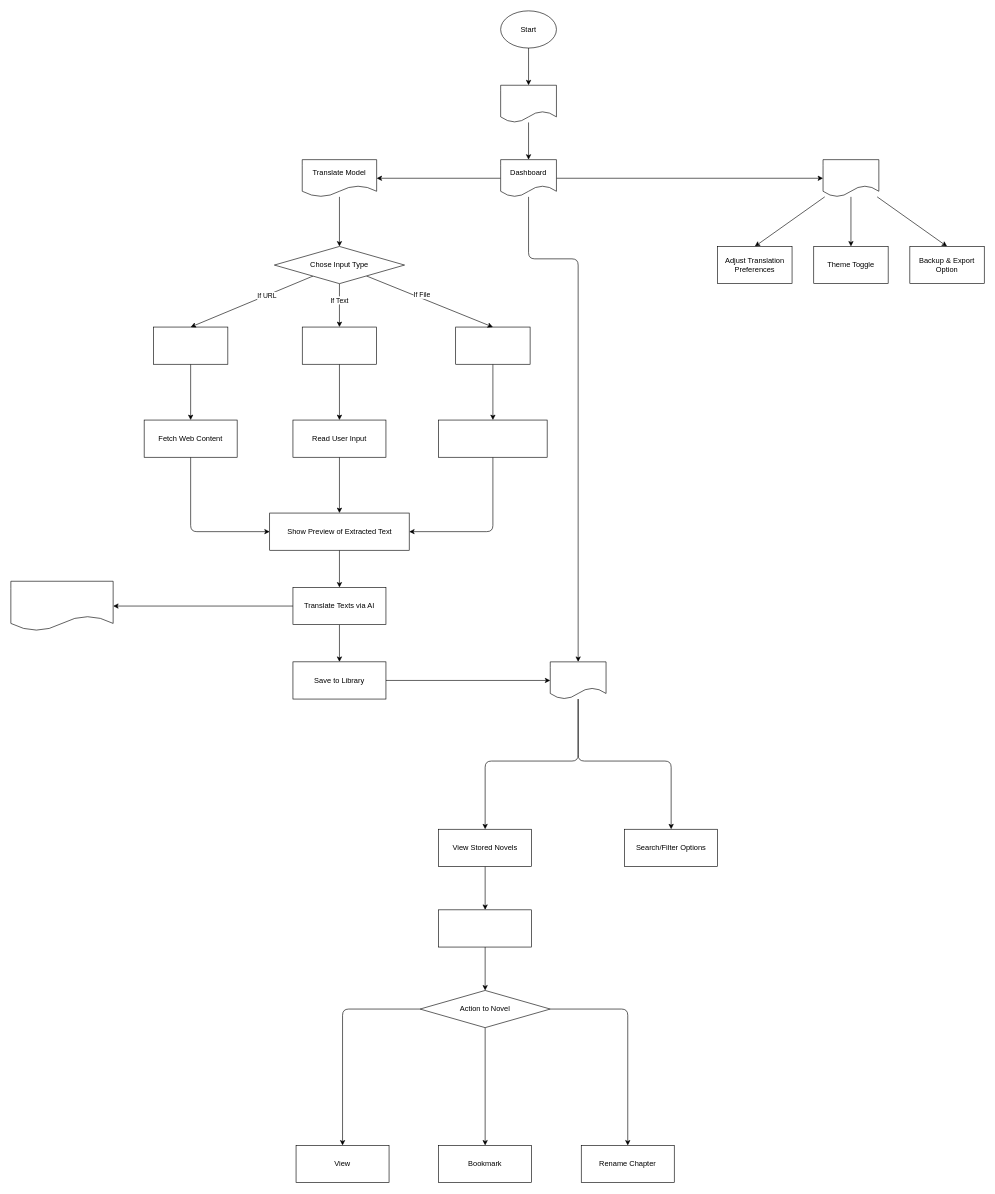
Some shapes in this 995 by 1194 pixel diagram are drawn without their labels. Each missing label, with the box of its shape:
Extract Texts from Chapters: (438, 419, 547, 457)
Library: (550, 661, 606, 699)
Logo Screen: (500, 85, 556, 122)
Paste Text: (302, 326, 377, 364)
Paste URL: (153, 326, 228, 364)
Select Novel: (438, 909, 532, 947)
Settings: (822, 159, 879, 197)
Translated Chapter: (10, 581, 113, 631)
Upload File: (455, 326, 530, 364)
